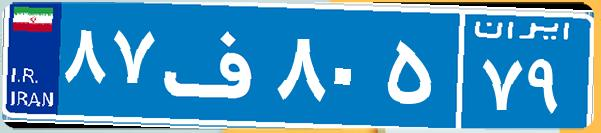0: (330, 28, 385, 110)
5: (385, 28, 445, 110)
7: (475, 38, 525, 113), (110, 28, 158, 105)
8: (273, 28, 330, 110), (57, 26, 110, 107)
9: (525, 38, 570, 115)
ف: (158, 15, 273, 115)
